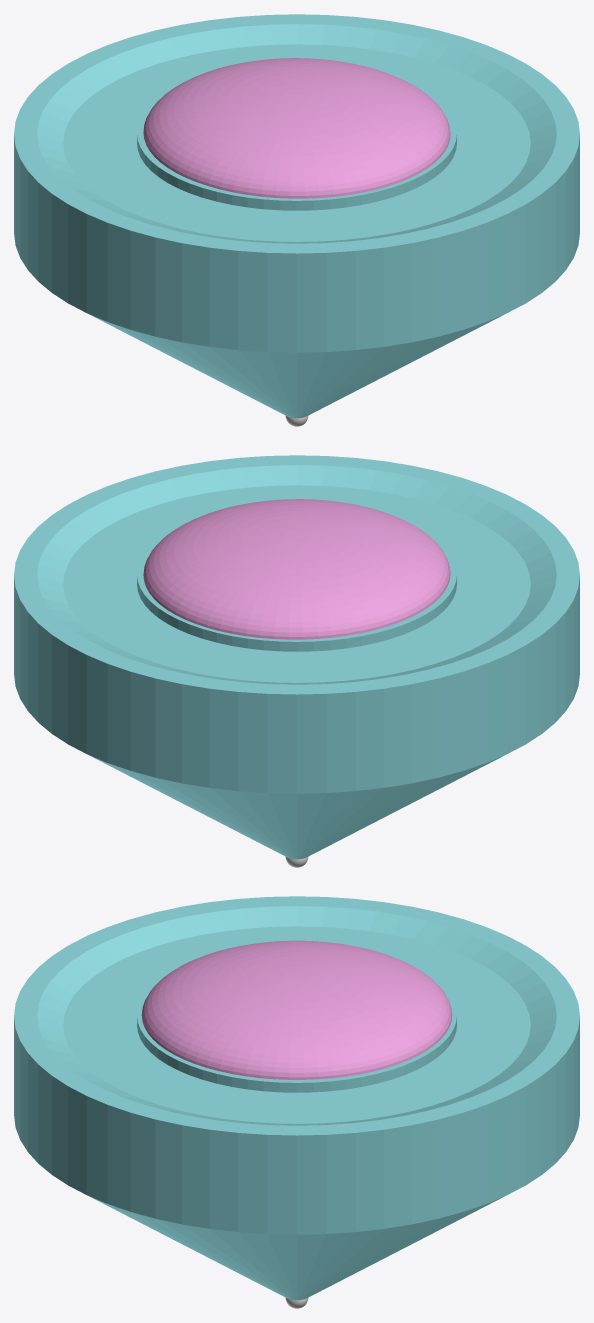
The model's file is gyro.fbx.
The picture shows the model from 3 angles, top to bottom: view 1: azimuth 30°, elevation 25°; view 2: azimuth 150°, elevation 25°; view 3: azimuth 270°, elevation 25°; orthographic projection.
Visible parts, largest first — view 1: Cylinder, Cylinder.001, Sphere.001; view 2: Cylinder, Cylinder.001, Sphere.001; view 3: Cylinder, Cylinder.001, Sphere.001.
Part boxes in pixels (x1,y1,x2,y2): Cylinder: (14,135,579,418); Cylinder.001: (14,14,579,253); Sphere.001: (143,58,450,198); Cylinder: (14,576,579,859); Cylinder.001: (14,455,579,694); Sphere.001: (143,499,450,639); Cylinder: (14,1017,579,1300); Cylinder.001: (14,896,579,1135); Sphere.001: (141,940,452,1079).
Size of what is drawn, in the model's own units: 200 by 129 by 200.
